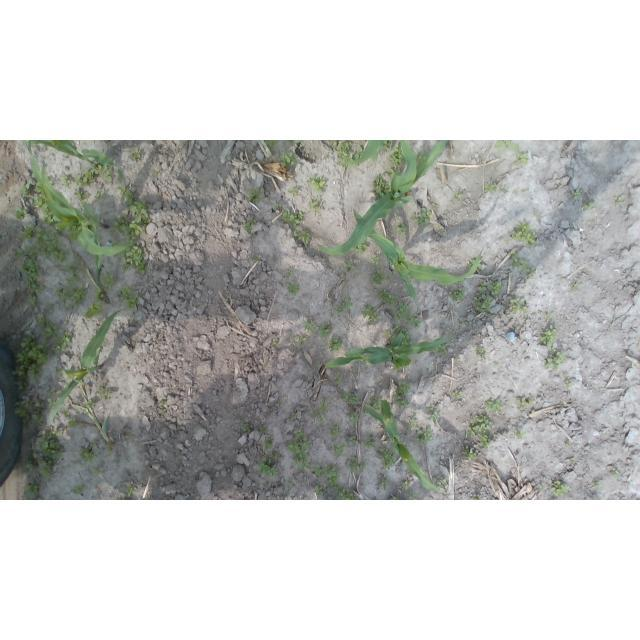Maize: (320, 141, 447, 254), (26, 140, 131, 266), (354, 208, 483, 298), (363, 399, 452, 496), (48, 310, 124, 418), (325, 331, 460, 370), (16, 140, 128, 186), (340, 140, 396, 168)
Weeds: (12, 334, 51, 382), (35, 228, 69, 263), (113, 215, 148, 241), (56, 285, 87, 307), (511, 222, 538, 247), (118, 244, 146, 266), (40, 202, 64, 226), (126, 201, 151, 224), (118, 287, 140, 312), (37, 440, 64, 460), (372, 173, 392, 200), (467, 414, 490, 437), (286, 437, 310, 459), (38, 314, 59, 339), (20, 259, 42, 282), (393, 381, 411, 409), (337, 140, 353, 169), (281, 208, 303, 229), (362, 304, 384, 325), (54, 331, 73, 355), (544, 349, 564, 371), (65, 263, 84, 286), (539, 324, 557, 348), (376, 448, 396, 469), (306, 175, 326, 196), (411, 207, 432, 227), (473, 294, 495, 313), (15, 398, 32, 422), (322, 463, 340, 485), (258, 459, 279, 477), (347, 457, 368, 475), (371, 269, 394, 285), (75, 169, 95, 187), (389, 144, 404, 167), (415, 427, 433, 446), (38, 458, 55, 478), (509, 298, 530, 314), (334, 486, 358, 500), (95, 165, 113, 183), (117, 185, 134, 204), (379, 289, 398, 306), (394, 326, 410, 346), (550, 482, 570, 497), (243, 217, 258, 237), (493, 141, 520, 152), (294, 230, 311, 247), (394, 303, 411, 320), (78, 447, 94, 464), (19, 225, 34, 243), (280, 153, 298, 168), (516, 395, 535, 409), (293, 457, 312, 471), (25, 282, 45, 295), (96, 383, 112, 399), (248, 188, 265, 203), (309, 198, 324, 215), (352, 239, 369, 254), (25, 480, 39, 497), (428, 405, 441, 423), (41, 428, 62, 439), (433, 476, 448, 491), (328, 339, 343, 354), (408, 313, 423, 328), (451, 286, 466, 301), (462, 446, 476, 462), (327, 423, 343, 437), (319, 397, 333, 413), (485, 399, 502, 412), (101, 273, 115, 288), (33, 411, 48, 425), (317, 323, 331, 338), (74, 188, 90, 201), (66, 224, 78, 241), (341, 393, 359, 404), (489, 281, 503, 295), (414, 150, 426, 166), (332, 444, 346, 457), (364, 435, 377, 449), (524, 267, 537, 281), (34, 194, 46, 209), (341, 297, 353, 312), (512, 259, 529, 269), (466, 259, 483, 269), (516, 153, 529, 166), (94, 288, 106, 302), (14, 207, 28, 219), (378, 476, 390, 490), (262, 437, 274, 451), (348, 410, 360, 424), (304, 319, 316, 333), (288, 282, 300, 296), (514, 428, 526, 441), (94, 189, 107, 201), (343, 260, 356, 272), (311, 463, 322, 477), (370, 396, 381, 410), (433, 345, 447, 356), (483, 182, 497, 193), (61, 173, 71, 188), (21, 183, 31, 198), (126, 485, 138, 497), (240, 422, 252, 434), (480, 437, 491, 450), (396, 223, 409, 234), (265, 141, 278, 152), (354, 147, 364, 161), (130, 150, 142, 161), (32, 396, 43, 408), (135, 263, 146, 274), (315, 485, 326, 496), (28, 295, 38, 307), (294, 427, 304, 439), (290, 337, 306, 344), (287, 187, 297, 198), (476, 347, 486, 358), (16, 382, 28, 391), (74, 485, 86, 494), (334, 372, 343, 384), (584, 202, 597, 210), (401, 480, 411, 490), (478, 281, 488, 291), (93, 466, 104, 475), (371, 255, 380, 266), (452, 390, 464, 398), (15, 247, 23, 259), (389, 167, 401, 175), (572, 189, 581, 199), (610, 468, 619, 478), (34, 183, 43, 193), (46, 398, 55, 408), (26, 463, 37, 471), (68, 419, 77, 428), (613, 197, 623, 205), (348, 436, 358, 444), (107, 442, 115, 452), (408, 419, 416, 429), (508, 251, 518, 259), (384, 140, 392, 150), (121, 264, 132, 271), (469, 494, 481, 500), (540, 482, 548, 491), (46, 177, 54, 186), (290, 412, 298, 421), (252, 253, 260, 262), (85, 401, 95, 408), (311, 408, 318, 418), (453, 193, 463, 200), (409, 492, 417, 500), (270, 452, 278, 460), (318, 416, 326, 424), (334, 307, 343, 314), (286, 269, 293, 278), (502, 185, 509, 194), (287, 481, 297, 487), (273, 202, 283, 208), (111, 239, 119, 246), (90, 439, 98, 446), (461, 320, 469, 327), (545, 314, 556, 319), (594, 482, 603, 488), (565, 381, 572, 388), (63, 384, 70, 391), (385, 329, 391, 337), (160, 399, 166, 406), (259, 427, 265, 434), (361, 408, 368, 414), (152, 170, 160, 175), (291, 141, 304, 144), (572, 283, 578, 289), (263, 483, 269, 489), (159, 409, 165, 415), (389, 336, 395, 342), (49, 391, 56, 396), (63, 409, 68, 416), (333, 141, 338, 148), (533, 211, 539, 216), (566, 440, 571, 446), (590, 445, 595, 450), (394, 214, 399, 219), (388, 497, 396, 500), (276, 497, 284, 500), (434, 204, 439, 208), (559, 184, 564, 188), (570, 457, 574, 461), (456, 356, 460, 360), (495, 363, 499, 366), (410, 342, 413, 345)
